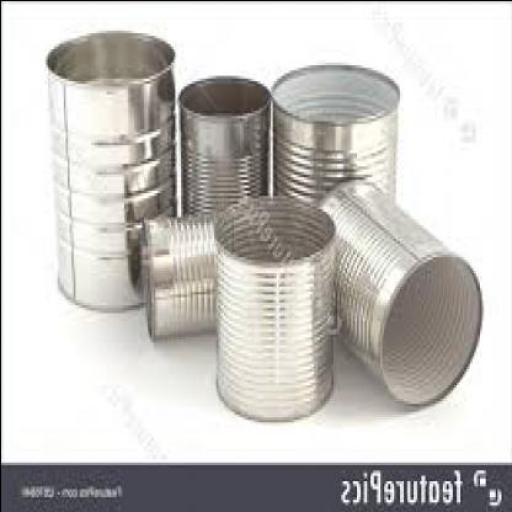metal: (303, 173, 485, 405), (47, 26, 176, 312), (216, 194, 334, 416), (144, 208, 314, 341), (271, 58, 403, 214), (183, 72, 272, 227)
